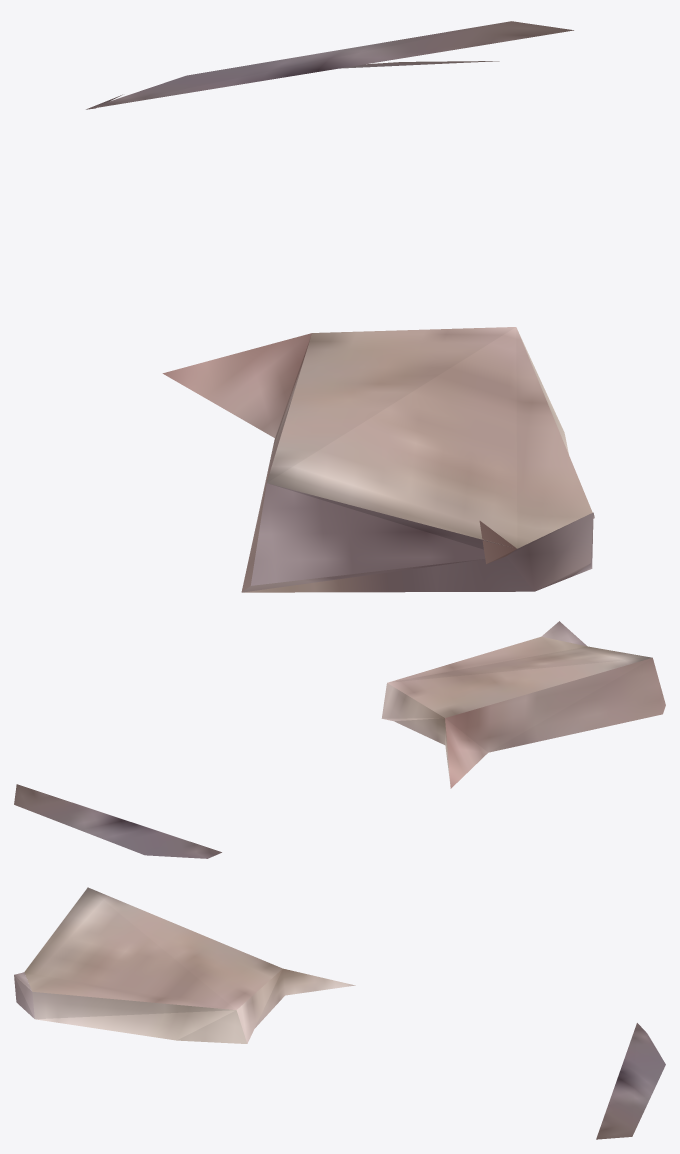
The picture shows the model from 3 angles, top to bottom: view 1: azimuth 30°, elevation 25°; view 2: azimuth 150°, elevation 25°; view 3: azimuth 270°, elevation 25°; orthographic projection. The views are drawn at different scales.
Parts seen in each view (by area): view 1: Mesh_0; view 2: Mesh_0; view 3: Mesh_0.
Part boxes in pixels (x1,y1,x2,y2): Mesh_0: (86,21,594,592); Mesh_0: (14,621,665,858); Mesh_0: (14,887,665,1139).
Size of the model in its own units: 11.45 by 1.61 by 15.09.
Materials: 1 (1 with a texture image).
